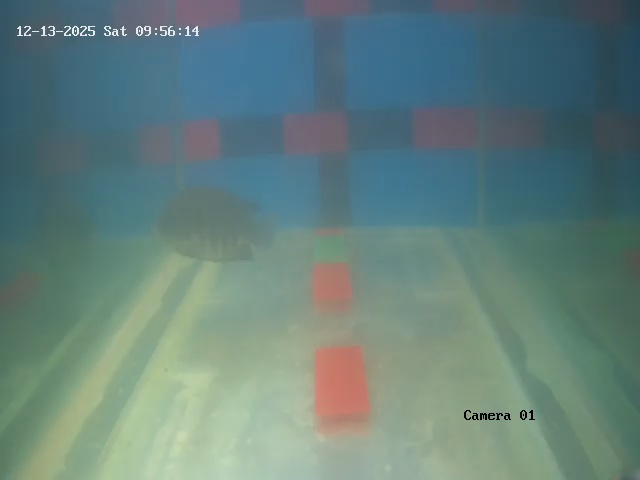fish: (135, 182, 267, 277)
